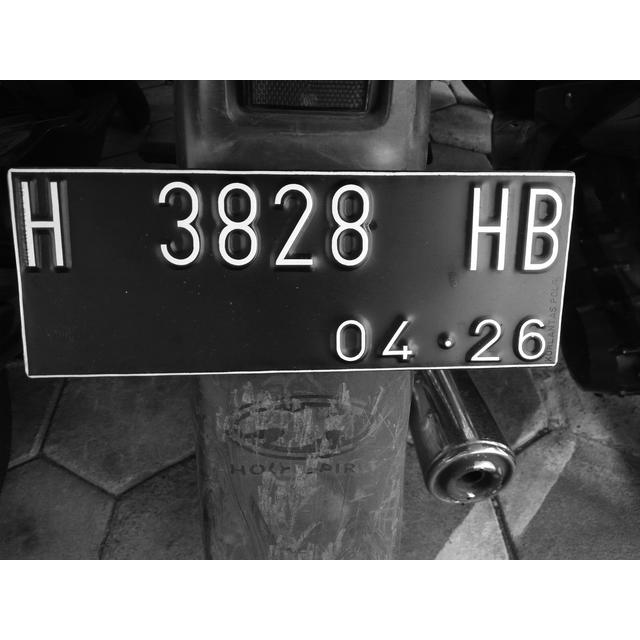license: (17, 173, 567, 367)
